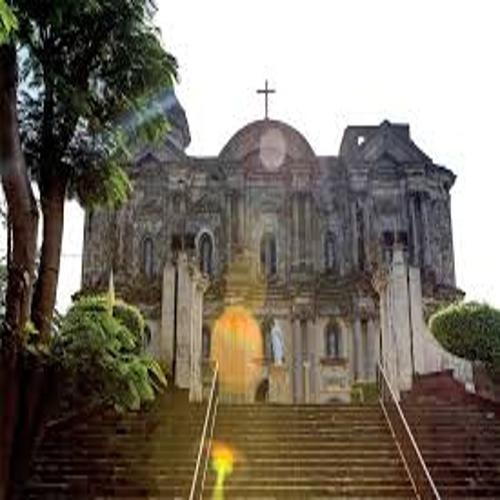Taal Basilica Church: (72, 26, 467, 410)
